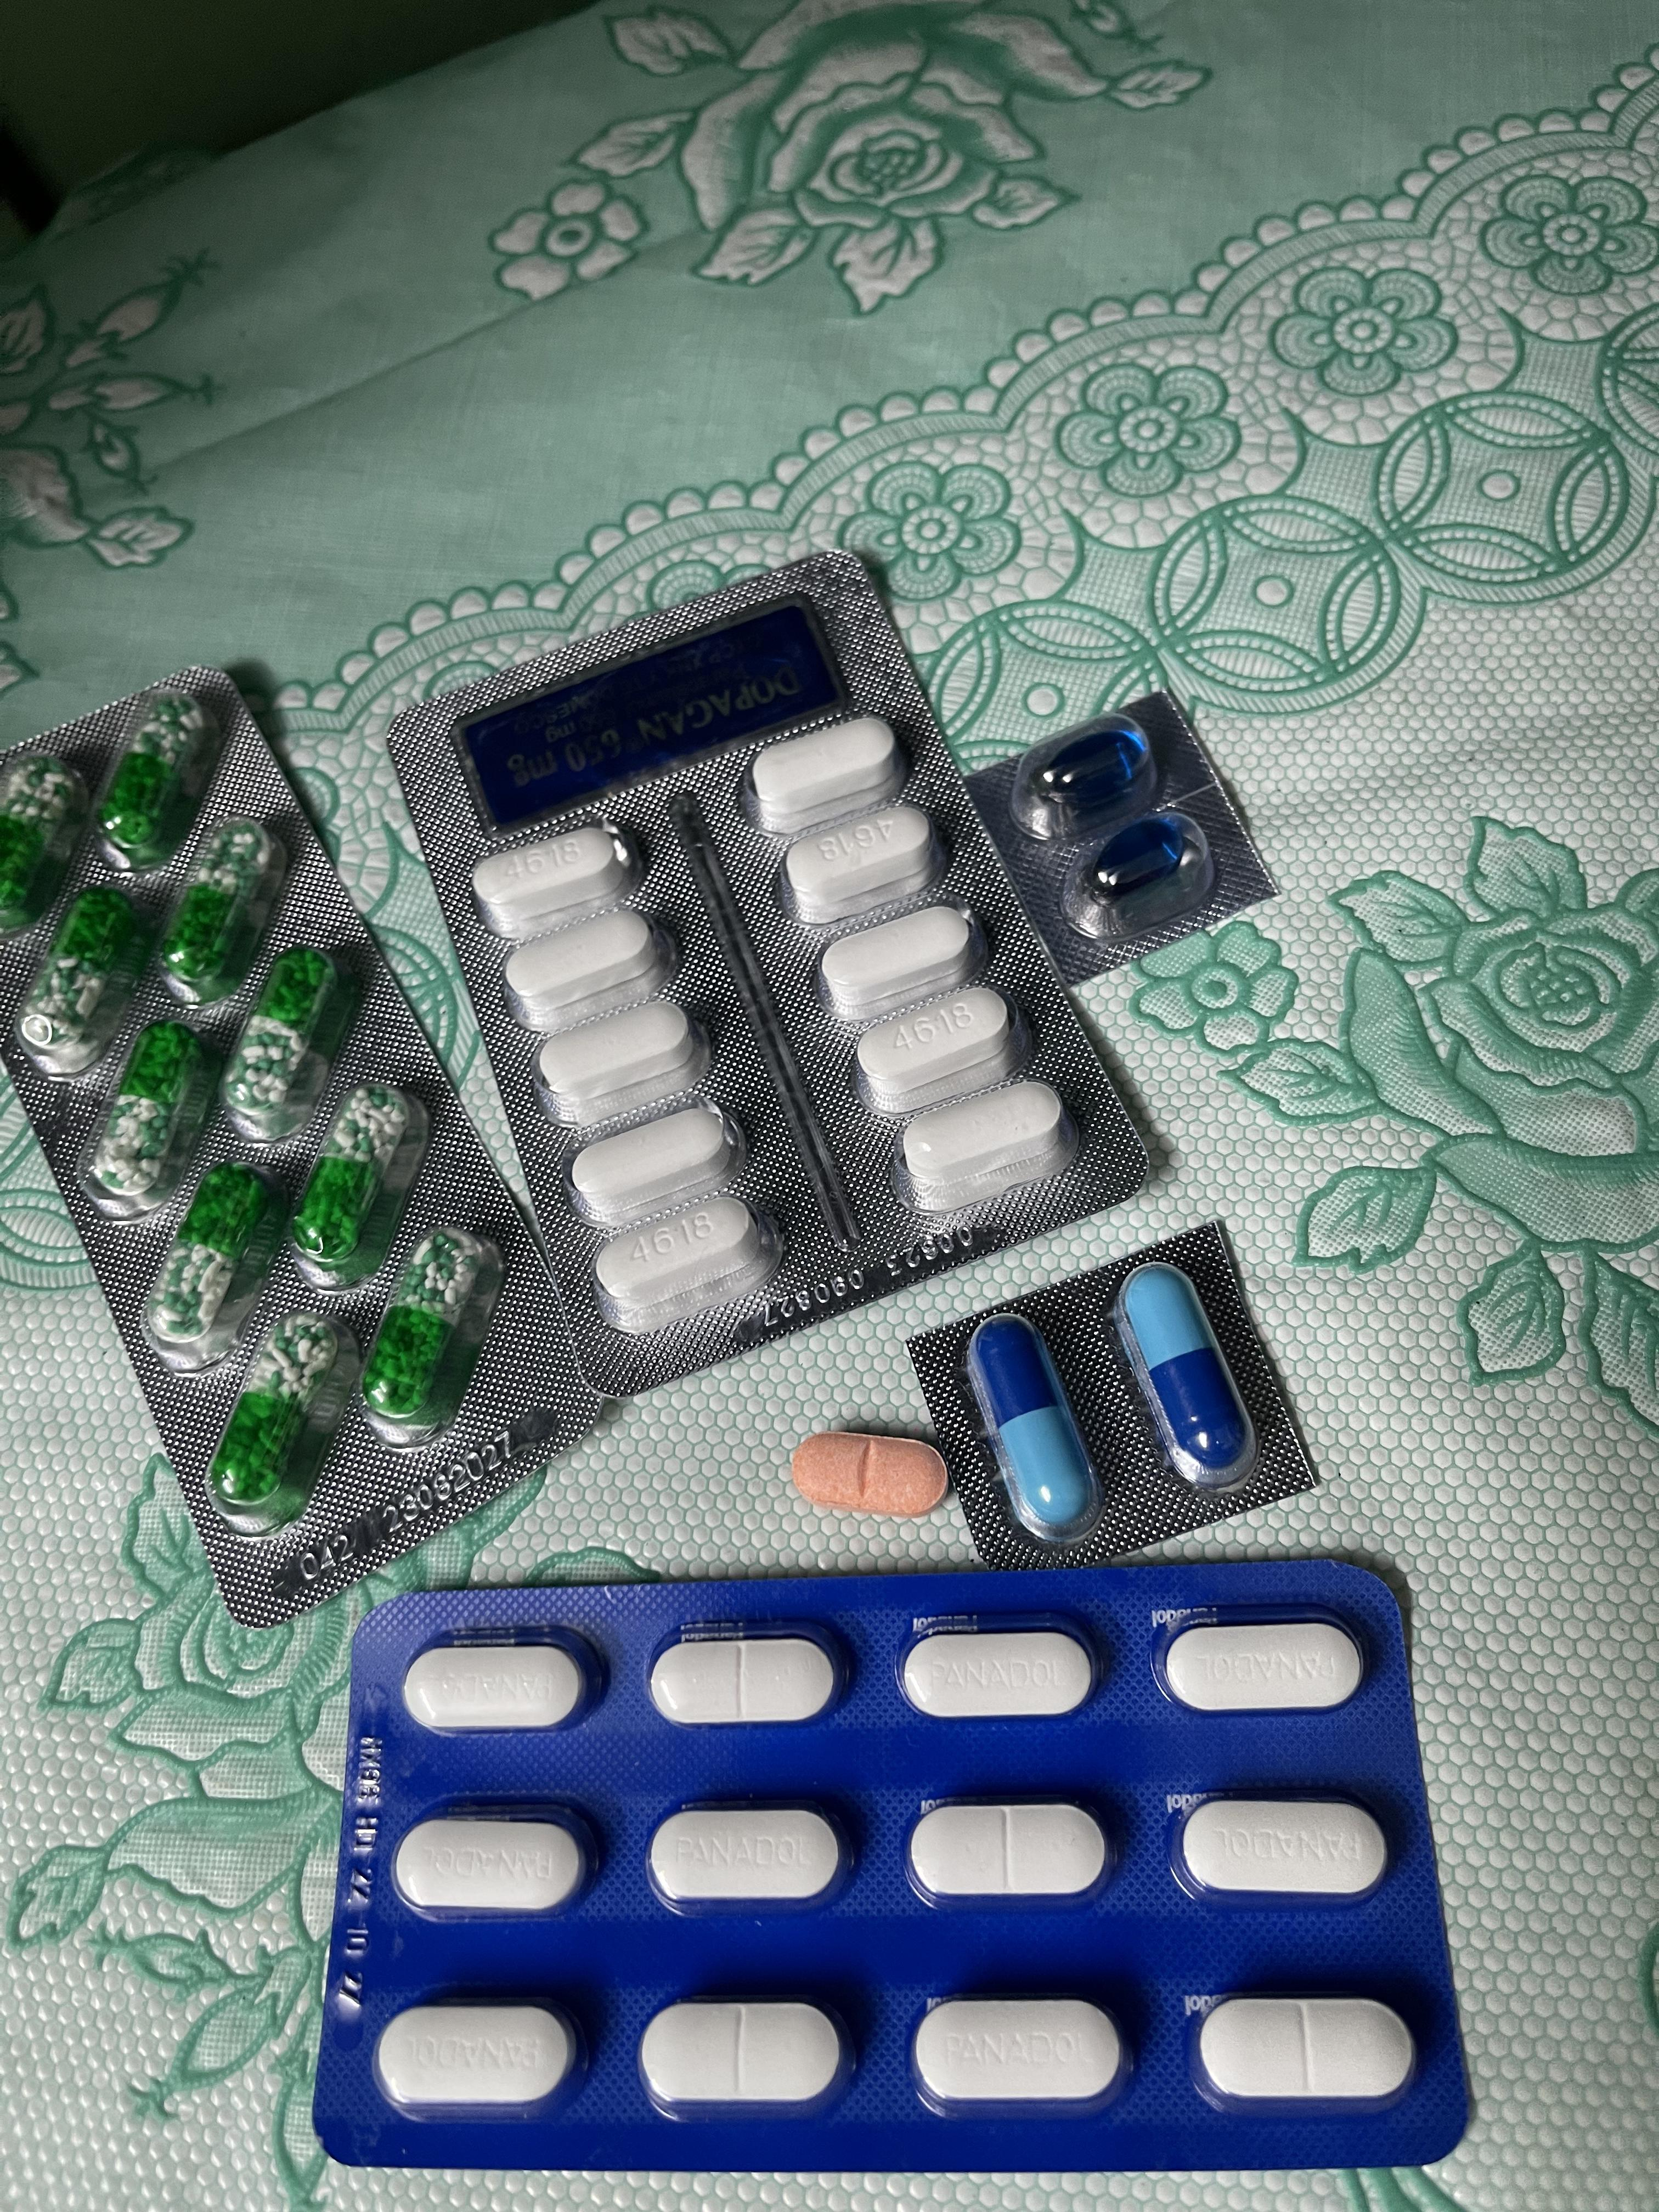Lincomyxin_500mg: (1037, 726, 1148, 806), (1087, 815, 1192, 900)
Loratadine_10mg: (791, 1430, 950, 1519)
Paracetamol_350mg: (640, 1996, 857, 2121), (1195, 1994, 1420, 2114), (911, 1994, 1133, 2116), (375, 1996, 586, 2121), (1173, 1791, 1398, 1907), (647, 1799, 857, 1916), (906, 1797, 1117, 1912), (899, 1613, 1107, 1724), (392, 1810, 596, 1923), (650, 1620, 856, 1730), (401, 1627, 603, 1737), (1155, 1616, 1368, 1717)
Paracetamol_500mg: (592, 1195, 772, 1338), (896, 1082, 1072, 1217), (500, 904, 669, 1031), (856, 982, 1018, 1115), (535, 998, 704, 1122), (817, 904, 979, 1028), (570, 1108, 739, 1226), (474, 822, 638, 937), (782, 803, 938, 923), (746, 714, 899, 833)
Paracetamol_650mg: (202, 1310, 361, 1512), (138, 1157, 284, 1366), (356, 1230, 498, 1439), (289, 1082, 434, 1287), (218, 941, 356, 1134), (82, 1022, 220, 1211), (14, 887, 153, 1068), (157, 817, 288, 1003), (96, 690, 221, 873), (2, 754, 89, 932)
pill: (1117, 1263, 1258, 1496), (962, 1312, 1103, 1541)
